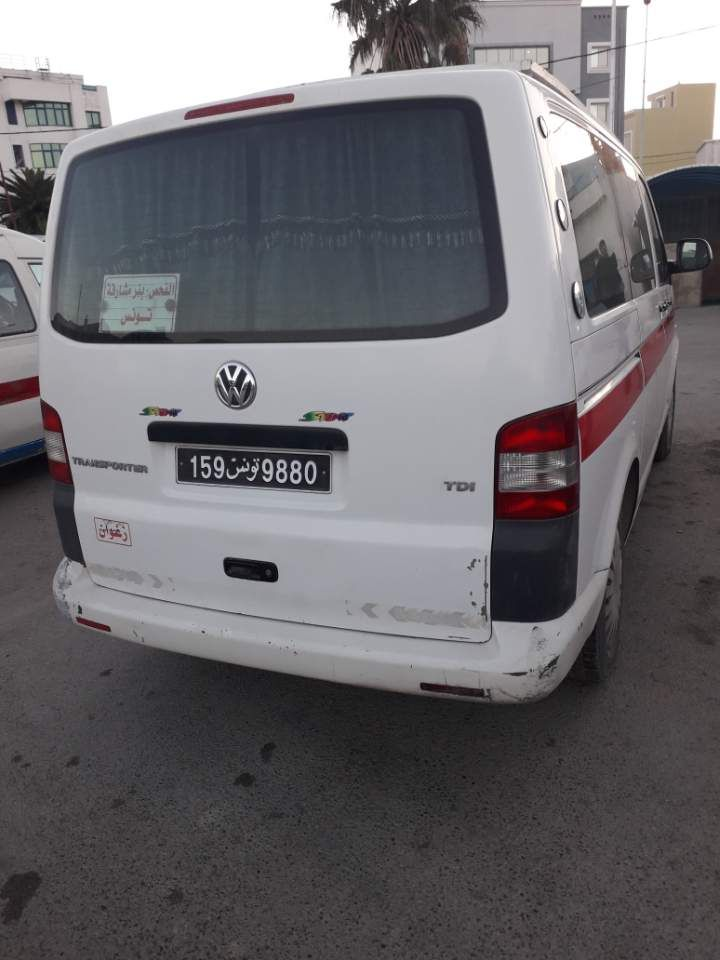LP: (173, 443, 334, 494)
